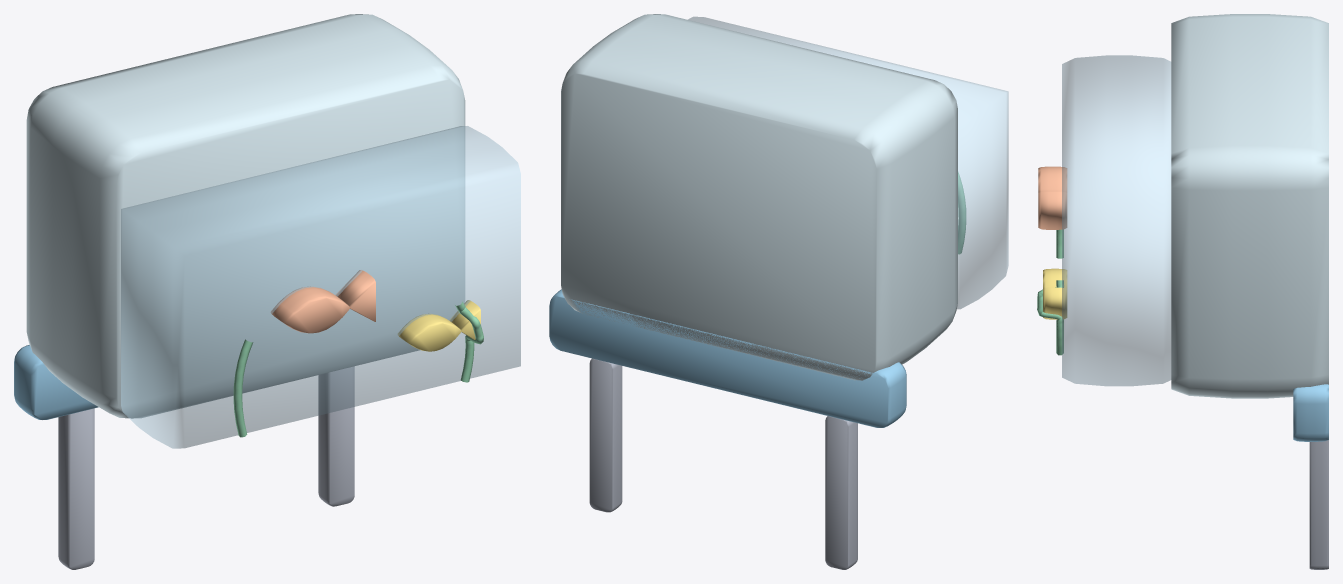
The model's file is decor_3_classic.glb.
The picture shows the model from 3 angles, left to right: view 1: azimuth 30°, elevation 25°; view 2: azimuth 150°, elevation 25°; view 3: azimuth 270°, elevation 25°; orthographic projection. The views are drawn at different scales.
Visible parts, largest first — view 1: decor_3_classic; view 2: decor_3_classic; view 3: decor_3_classic.
Boxes of the visible parts, <box> form: decor_3_classic: <box>14,14,520,569</box>; decor_3_classic: <box>549,14,1008,569</box>; decor_3_classic: <box>1037,14,1328,569</box>.
Bounding box in the file's own units: 11.93 × 14.71 × 9.06.
